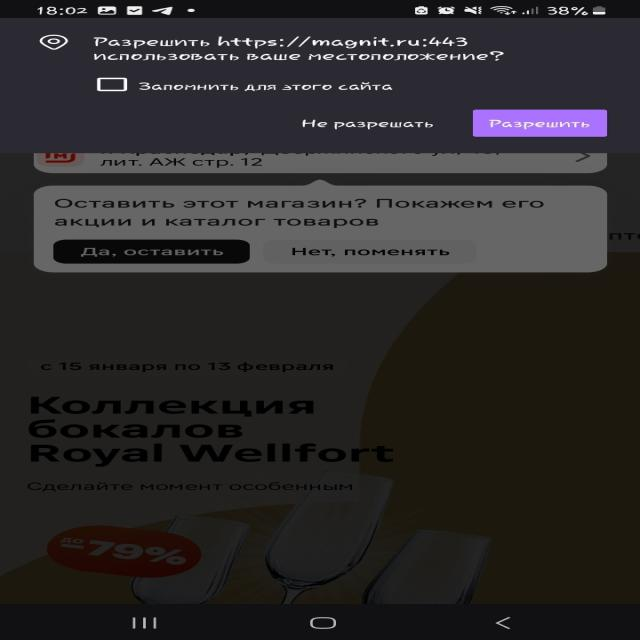button: (269, 238, 473, 266), (46, 238, 258, 264), (296, 110, 440, 139), (473, 110, 611, 137)
site: (33, 184, 609, 275)
system: (0, 18, 638, 154)
